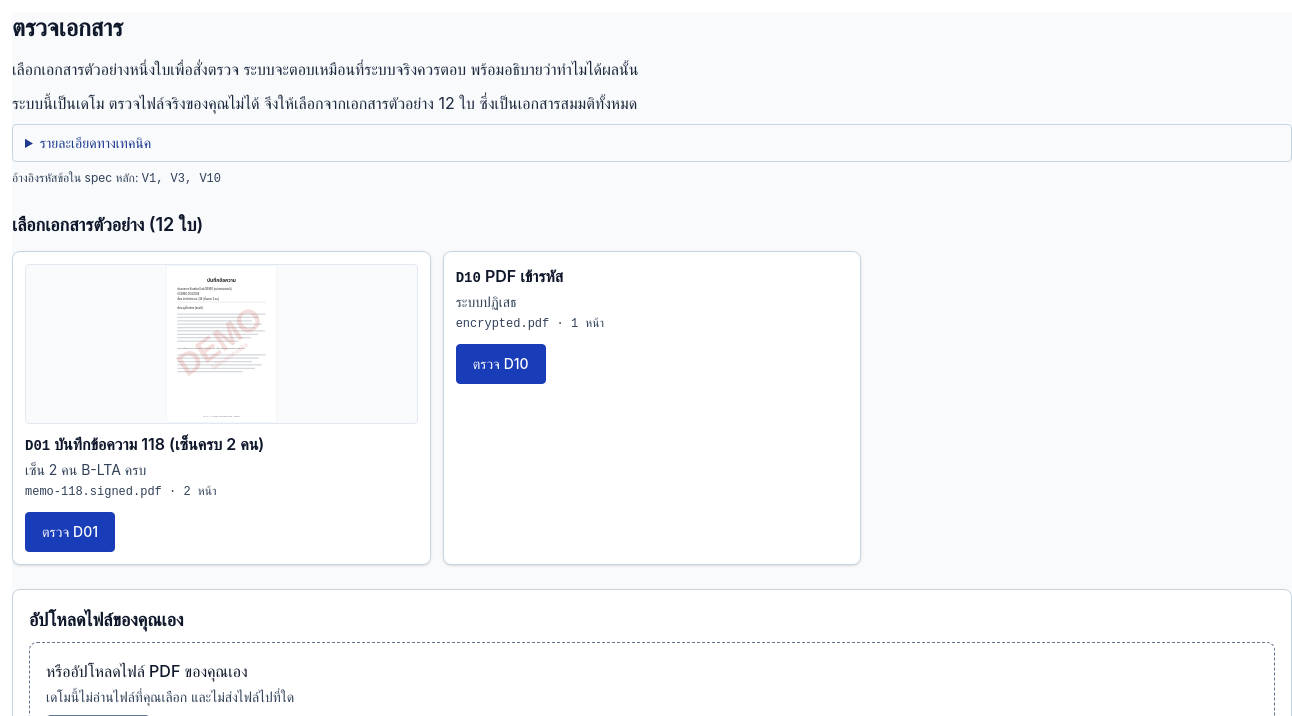
Test: /verify problem messages › 413 PDF_TOO_LARGE is explained in Thai
Click the button "ตรวจ D10" at (501, 364), box [456,344,546,384]
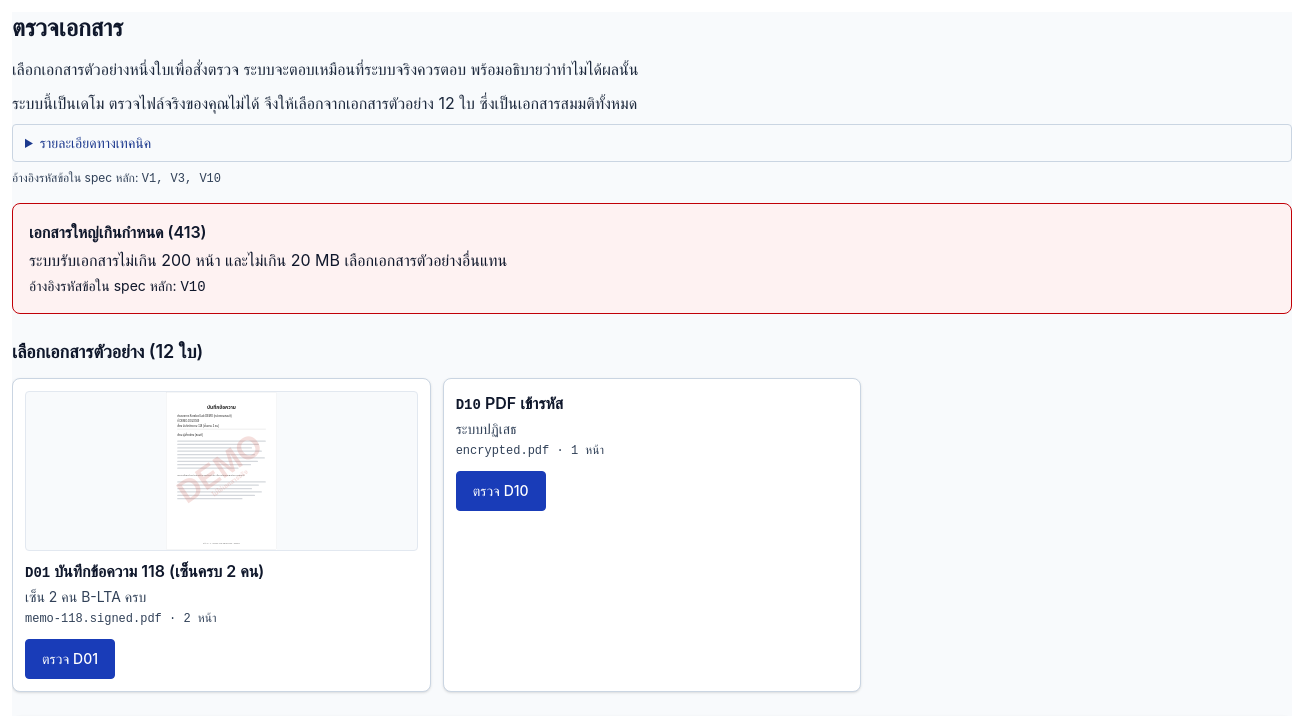
Check: the message with test id "verify-error" shows "เกินกำหนด", box [29,222,207,242]
Check: the message with test id "verify-error" shows "V10", box [180,279,206,295]
